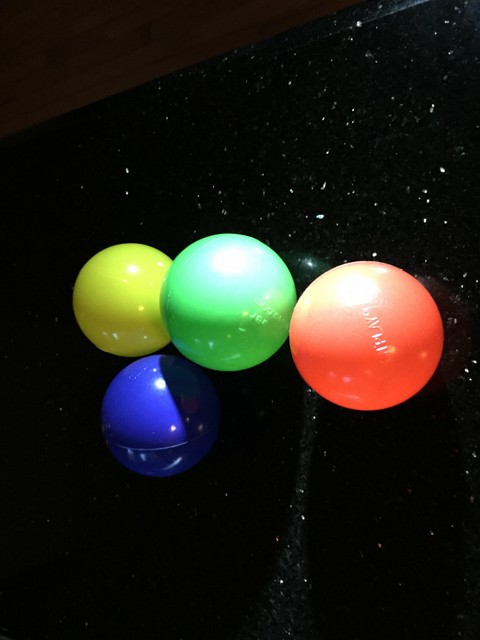Ball: (292, 260, 440, 417)
